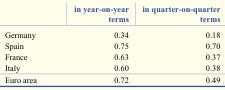table: (3, 4, 219, 84)
table column: (134, 4, 219, 84), (54, 4, 134, 84), (3, 4, 54, 84)
table column header: (3, 4, 219, 27)
table row: (3, 4, 219, 27), (3, 27, 219, 40), (3, 61, 219, 73), (3, 40, 219, 51), (3, 73, 219, 84), (3, 51, 219, 61)
